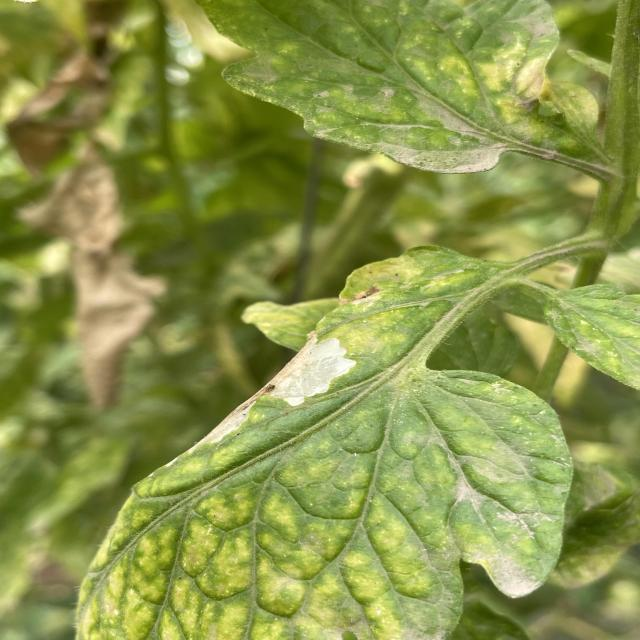Tuta absoluta: (188, 323, 358, 489)
